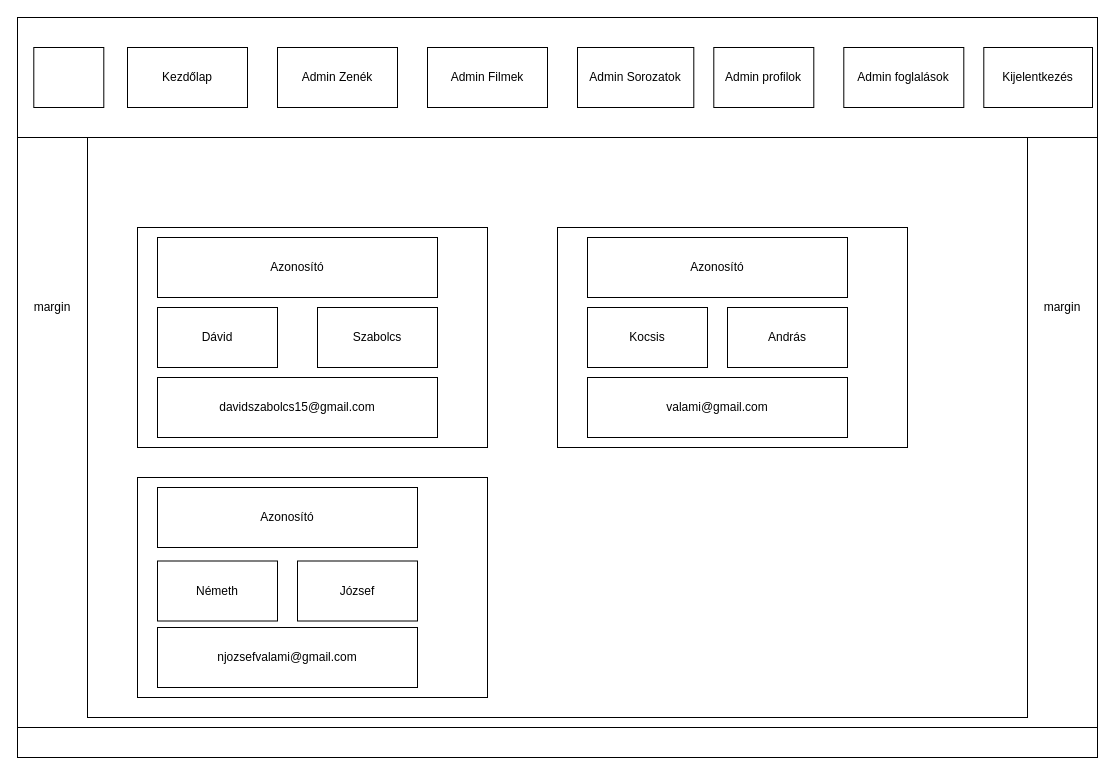
The diagram is 1115 pixels wide and 775 high, and some of its shapes have lost their labels. Here are the shapes that lost their labels. From the top down, the centre of each, then its label:
the point at 68,77: Logo (opcionális)
the point at 557,742: Footer
